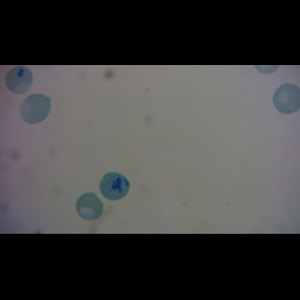aggregate reticulocyte: (98, 171, 131, 201)
erythrocyte: (18, 93, 53, 125), (4, 66, 34, 95), (75, 192, 105, 221)
punctate reticulocyte: (272, 82, 300, 115)
